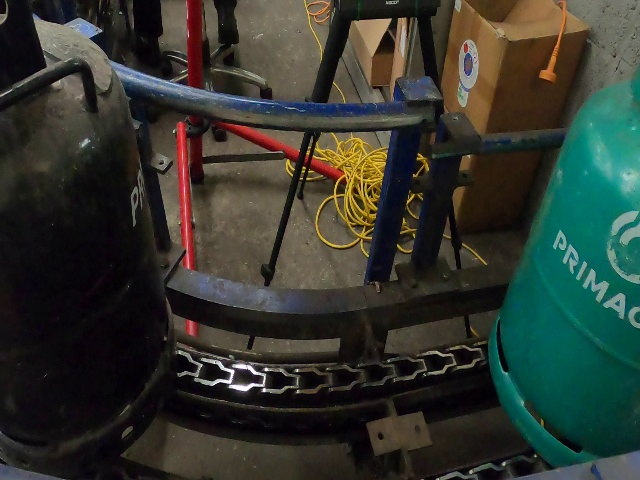gas_bottle: (3, 0, 639, 480)
